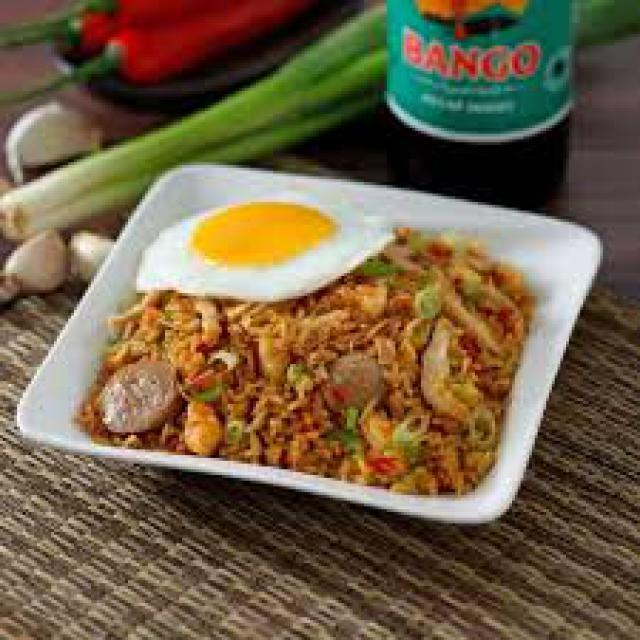Fried Egg: (144, 200, 377, 288)
